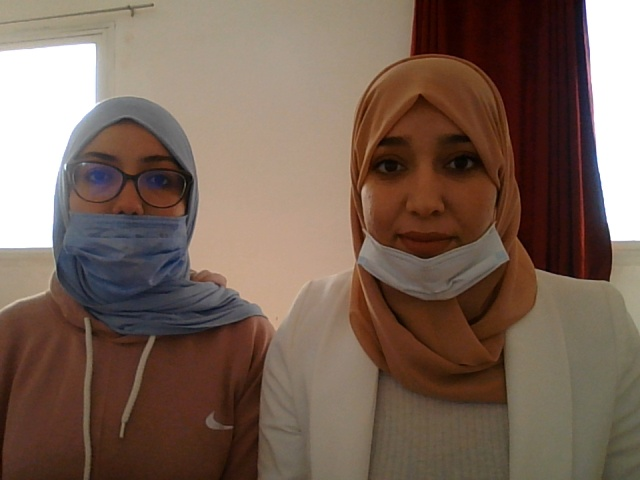mask_weared_incorrect: (342, 94, 514, 308), (56, 118, 206, 308)
